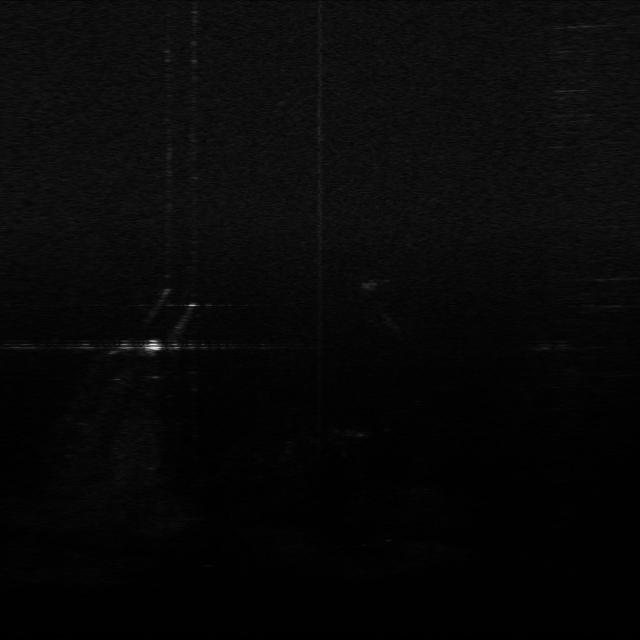rov: (140, 337, 164, 353)
